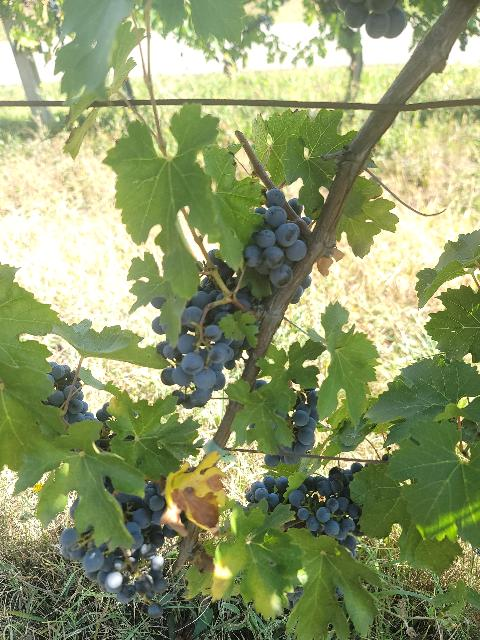grapes: (156, 276, 250, 409), (244, 189, 306, 289)
